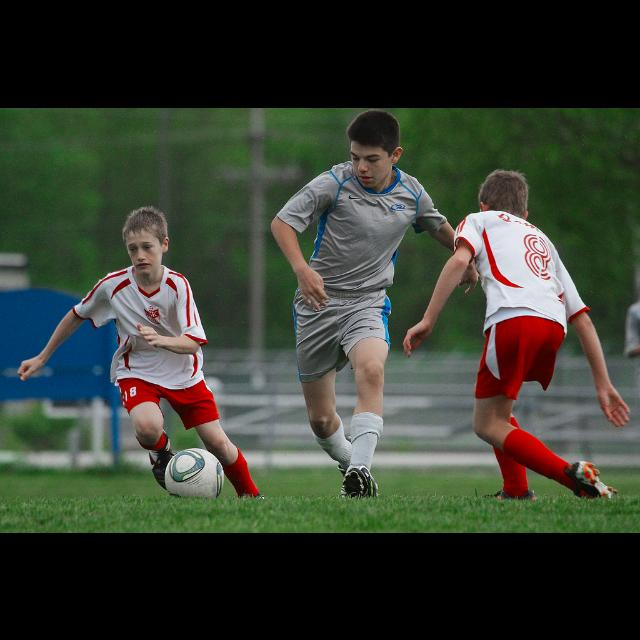Football: (164, 447, 224, 498)
